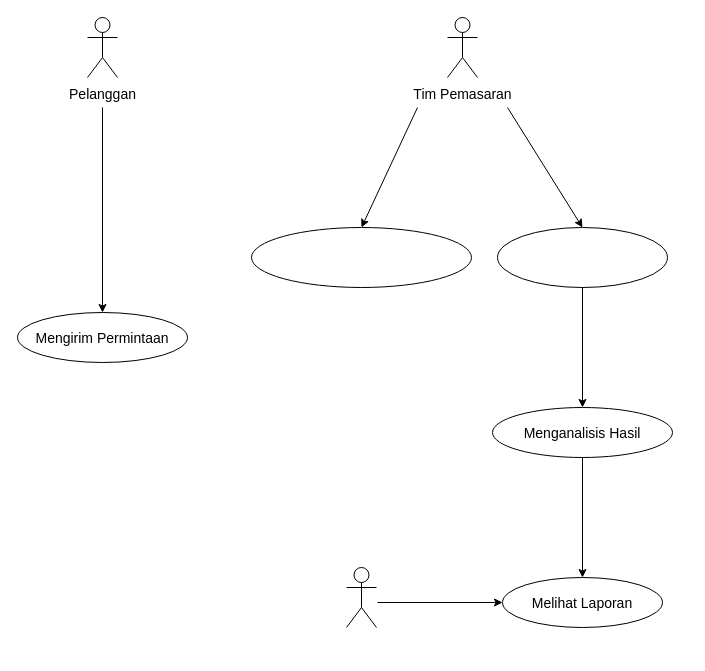
This 705x671 diagram has some shape labels left out. Each missing label, with the centre of its shape:
"Manajer TI" belongs at (x=361, y=597).
"Melaksanakan Promosi" belongs at (x=582, y=257).
"Membuat Rencana Promosi" belongs at (x=361, y=257).
